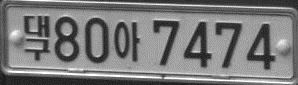0: (84, 17, 109, 63)
4: (246, 22, 276, 69), (183, 21, 213, 67)
7: (152, 19, 179, 66), (215, 21, 242, 68)
8: (54, 15, 80, 62)
대구_V: (23, 14, 50, 61)
아: (113, 20, 141, 62)
